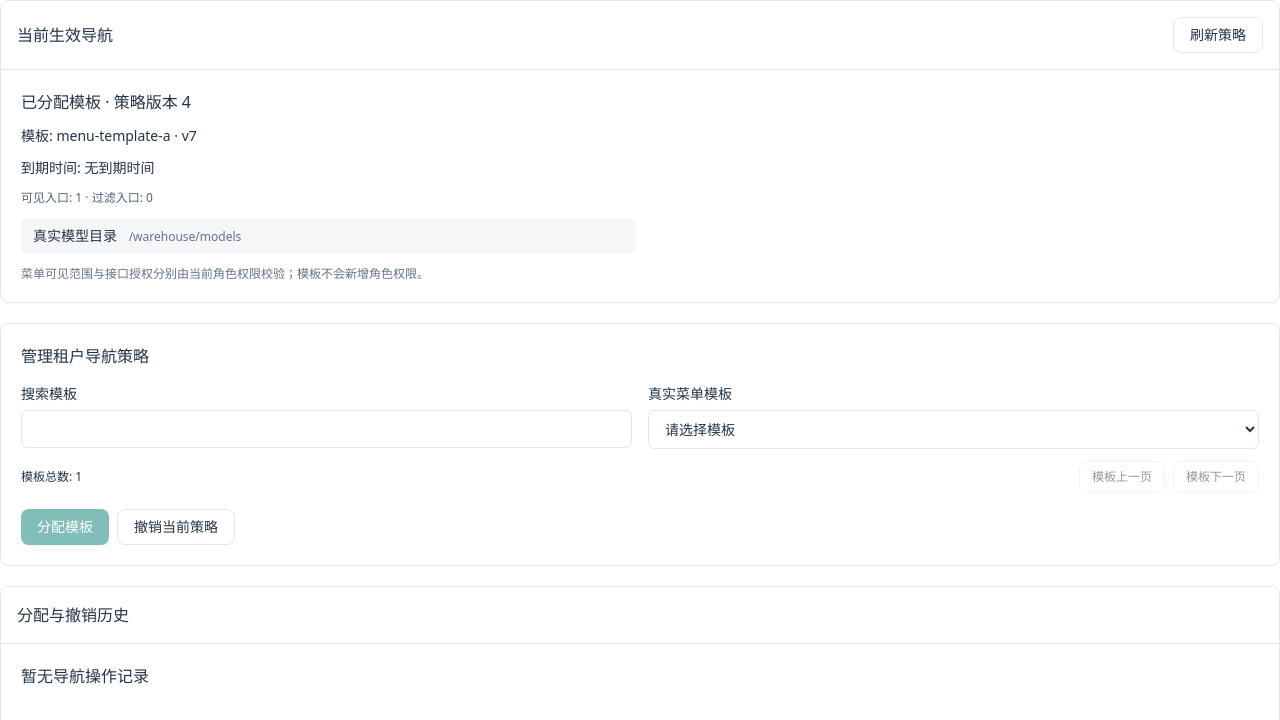
it: navigation management › sends the actual revocation reason, assignment identity and CAS version with a stable retry key
Click the button "撤销当前策略": coordinates (176, 527) 117,509 -> 235,545
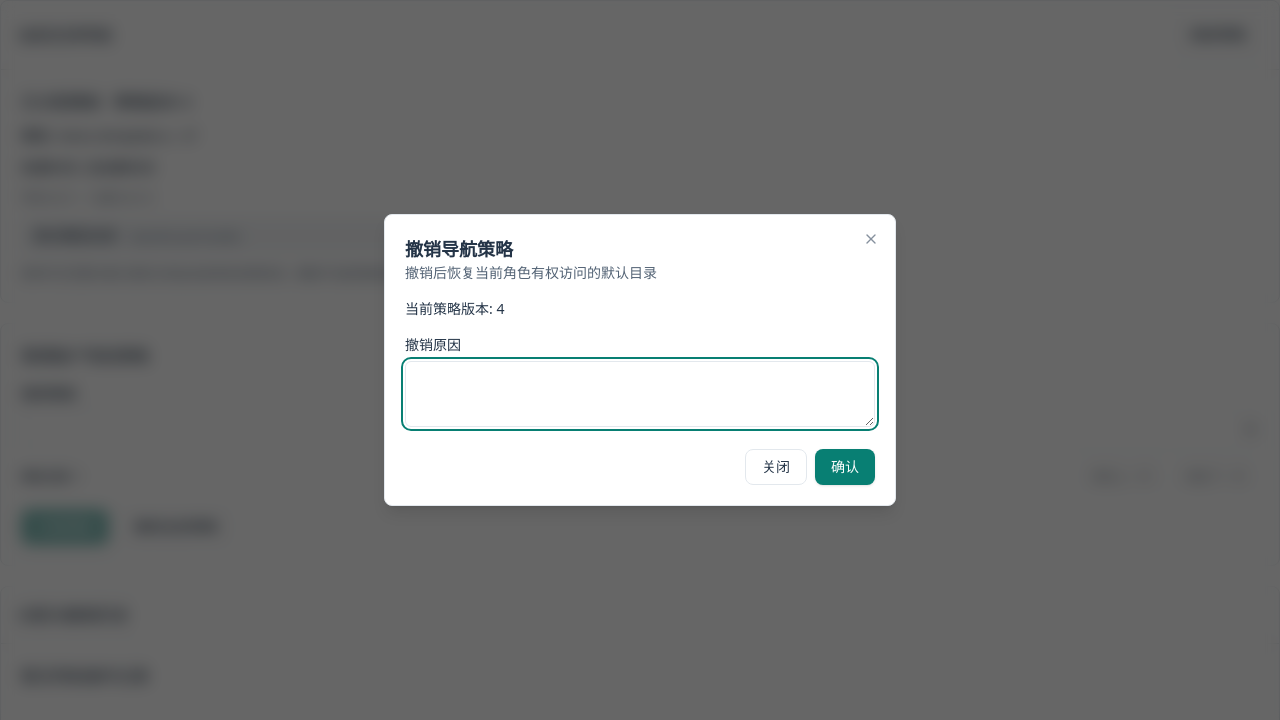
In the text box labelled "撤销原因": coordinates (640, 394) 405,361 -> 875,427, type "组织导航调整"
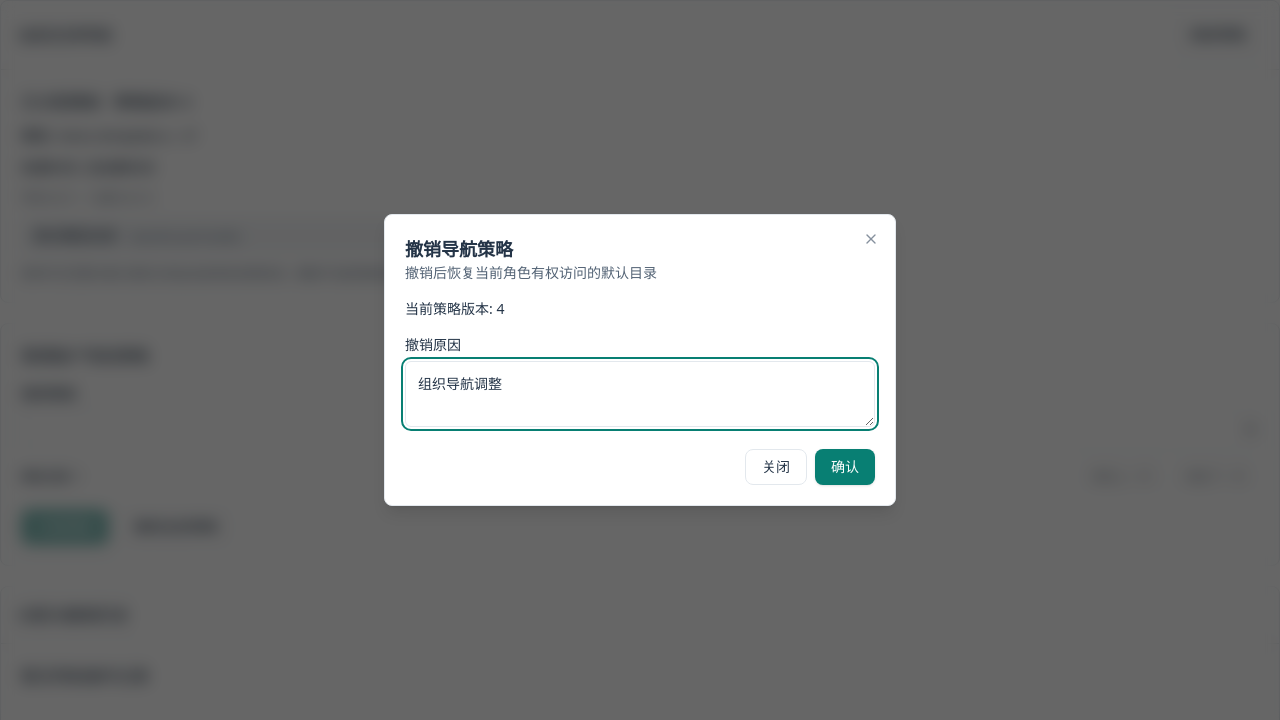
Click the button "确认": coordinates (845, 467) 815,449 -> 875,485
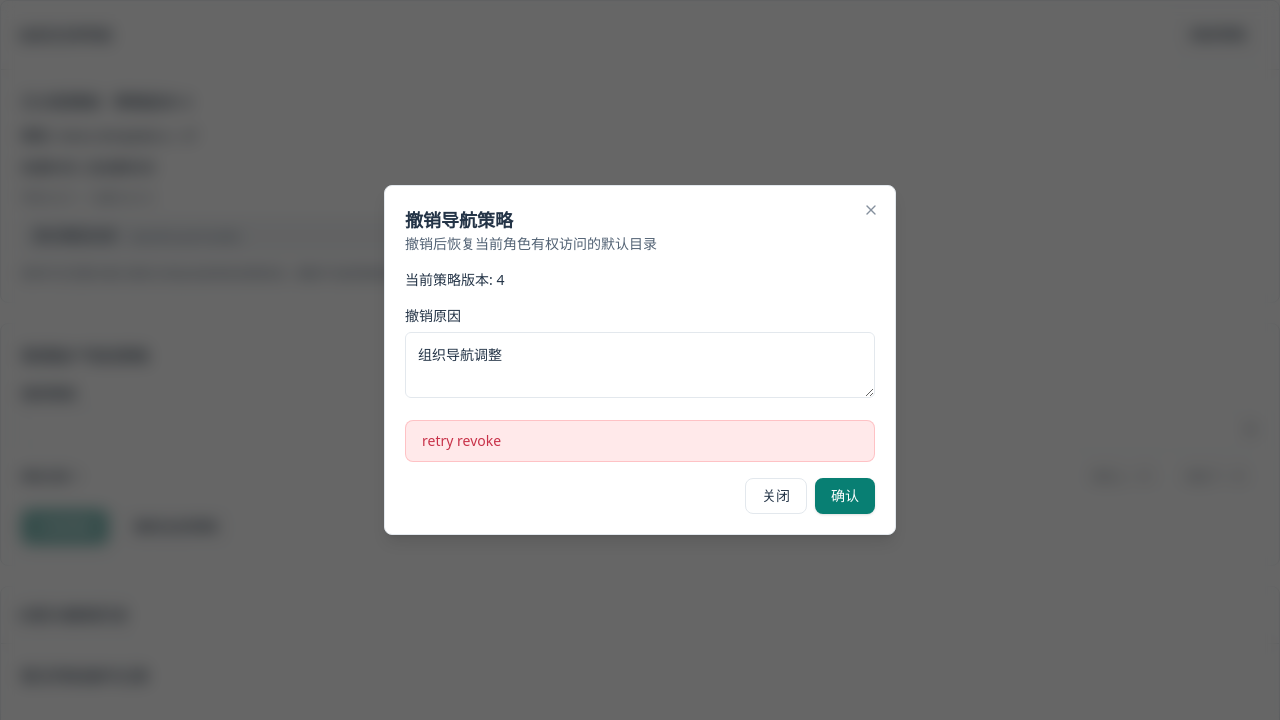
Expected: the text "retry revoke" is shown, 422,431 -> 501,450
Click the button "确认": coordinates (845, 496) 815,478 -> 875,514
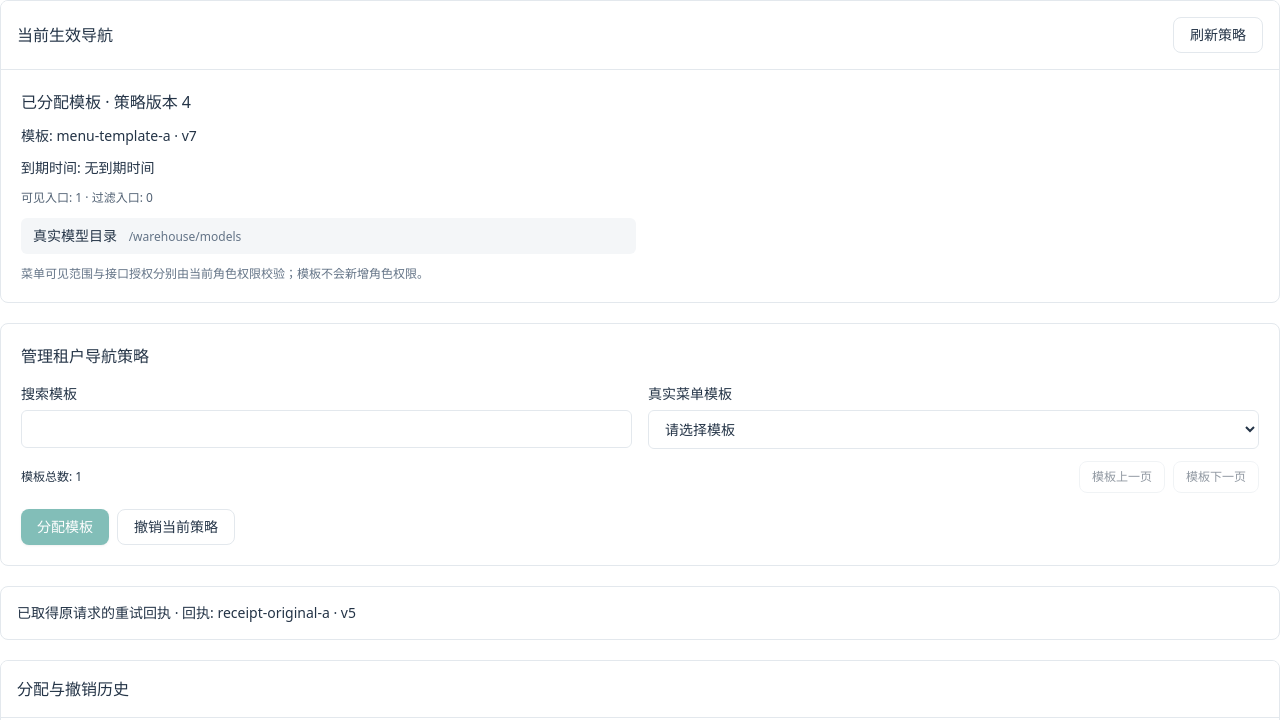
Expected: the text "已取得原请求的重试回执 · 回执: receipt-original-a · v5" is shown, 0,586 -> 1279,640
